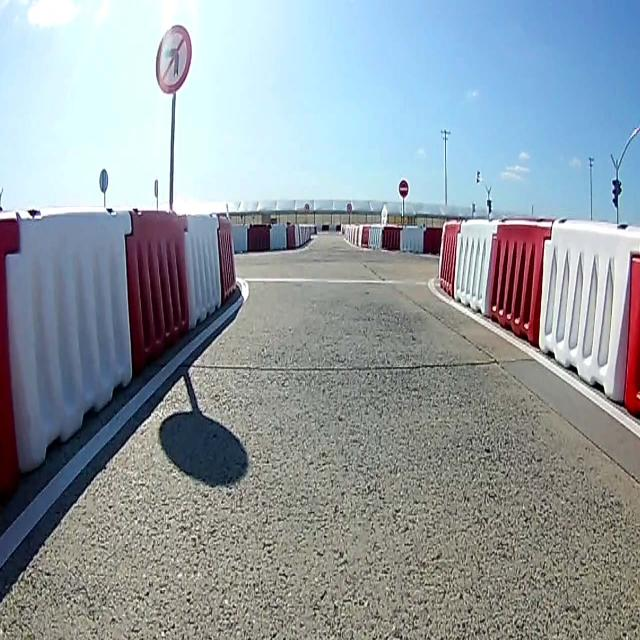girisyok: (398, 178, 408, 198)
soladonulmez: (156, 25, 192, 94)
